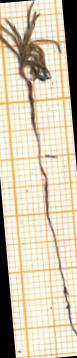flower: (0, 0, 67, 87)
root: (36, 155, 77, 350)
stem: (21, 80, 46, 156)
